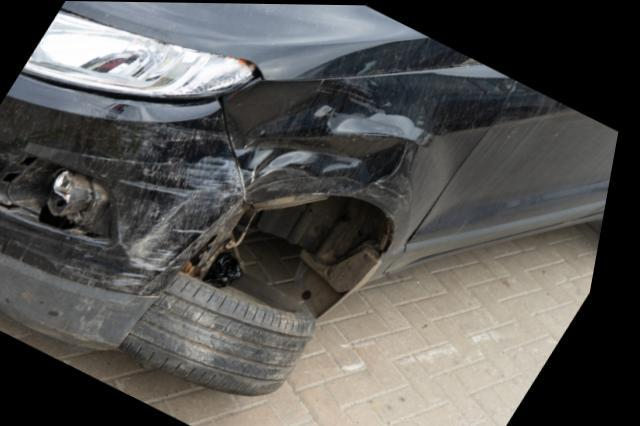dent: (248, 82, 431, 202)
dislocated part: (128, 208, 370, 397)
scratch: (116, 125, 241, 289)
